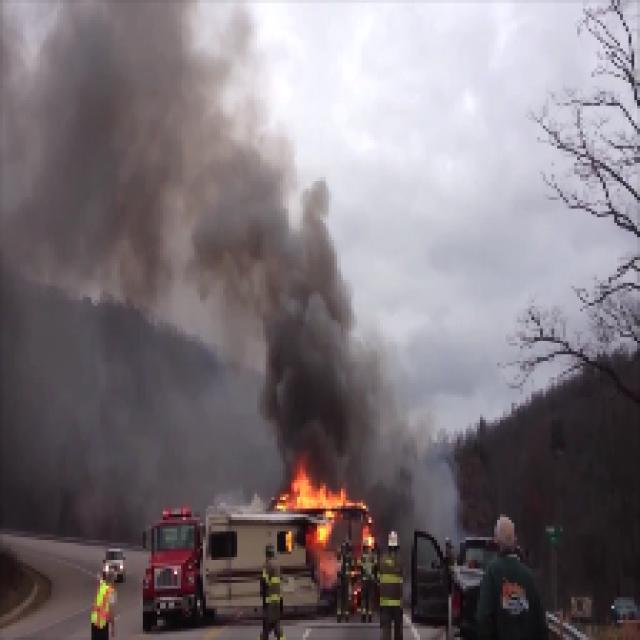fire: (278, 470, 356, 512)
smoke: (35, 26, 163, 270), (264, 263, 346, 459), (184, 143, 266, 283)
